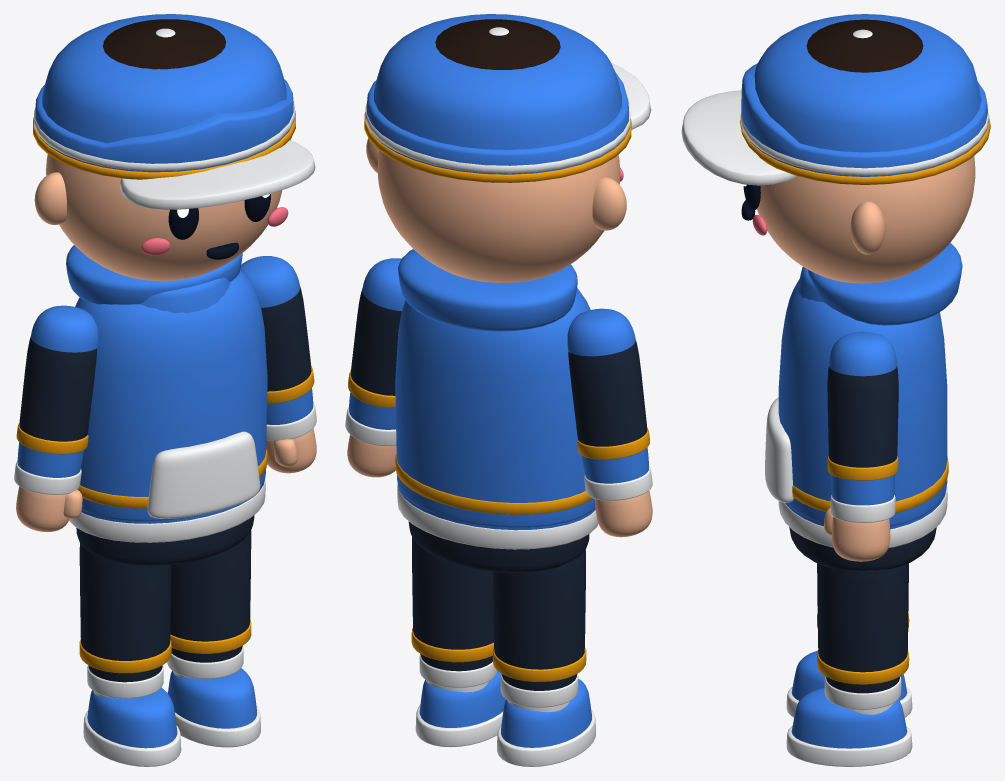
The model's file is character_modular_v1_round_backup.glb.
3 views of the same model, side by side, from view 1: azimuth 30°, elevation 25°; view 2: azimuth 150°, elevation 25°; view 3: azimuth 270°, elevation 25° (orthographic).
Visible parts, largest first — view 1: Top03_Hoodie_Torso, Hat03_Cap_Crown, Head_Base, Bot02_Komprang_Leg_R, Hat02_Udeng_Band, Top03_Hoodie_Pocket, Hat03_Cap_Visor, Bot02_Komprang_Leg_L, Top02_Pangsi_Sleeve_R, Hat01_StylizedHair, Shoes01_Sneaker_Upper_R, Shoes01_Sneaker_Upper_L (+30 smaller); view 2: Top03_Hoodie_Torso, Hat03_Cap_Crown, Head_Base, Bot02_Komprang_Leg_R, Top03_Hoodie_NeckRoll, Bot02_Komprang_Leg_L, Top02_Pangsi_Sleeve_R, Hat02_Udeng_Band, Hat01_StylizedHair, Top03_Hoodie_RibHem, Bot02_Komprang_Pelvis, Top02_Pangsi_Sleeve_L (+26 smaller); view 3: Hat03_Cap_Crown, Top03_Hoodie_Torso, Head_Base, Bot02_Komprang_Leg_L, Top02_Pangsi_Sleeve_L, Top03_Hoodie_NeckRoll, Hat02_Udeng_Band, Hat03_Cap_Visor, Hat01_StylizedHair, Shoes01_Sneaker_Upper_L, Top01_Jersey_Sleeve_L, Shoes01_Sneaker_Sole_L (+16 smaller).
Boxes of the visible parts, box(x1,y1,x2,y2) form: Top03_Hoodie_Torso: box(75, 270, 267, 523); Hat03_Cap_Crown: box(42, 14, 286, 143); Head_Base: box(46, 154, 282, 281); Bot02_Komprang_Leg_R: box(79, 543, 171, 660); Hat02_Udeng_Band: box(35, 79, 293, 172); Top03_Hoodie_Pocket: box(147, 431, 260, 518); Hat03_Cap_Visor: box(120, 140, 315, 209); Bot02_Komprang_Leg_L: box(170, 530, 251, 641); Top02_Pangsi_Sleeve_R: box(19, 336, 96, 441); Hat01_StylizedHair: box(103, 19, 226, 69); Shoes01_Sneaker_Upper_R: box(87, 687, 177, 748); Shoes01_Sneaker_Upper_L: box(168, 668, 256, 728); Top03_Hoodie_Torso: box(395, 288, 595, 530); Hat03_Cap_Crown: box(374, 14, 621, 149); Head_Base: box(377, 151, 620, 282); Bot02_Komprang_Leg_R: box(493, 550, 585, 669); Top03_Hoodie_NeckRoll: box(398, 249, 577, 331); Bot02_Komprang_Leg_L: box(412, 536, 493, 649); Top02_Pangsi_Sleeve_R: box(568, 340, 647, 446); Hat02_Udeng_Band: box(367, 72, 628, 174); Hat01_StylizedHair: box(435, 19, 560, 69); Top03_Hoodie_RibHem: box(397, 484, 598, 549); Bot02_Komprang_Pelvis: box(408, 521, 589, 572); Top02_Pangsi_Sleeve_L: box(350, 288, 401, 395); Hat03_Cap_Crown: box(754, 14, 981, 152); Top03_Hoodie_Torso: box(778, 279, 947, 529); Head_Base: box(757, 156, 975, 283); Bot02_Komprang_Leg_L: box(817, 563, 908, 672); Top02_Pangsi_Sleeve_L: box(827, 365, 898, 467); Top03_Hoodie_NeckRoll: box(808, 243, 962, 325); Hat02_Udeng_Band: box(741, 63, 987, 176); Hat03_Cap_Visor: box(681, 90, 795, 185); Hat01_StylizedHair: box(806, 19, 923, 72); Shoes01_Sneaker_Upper_L: box(791, 688, 907, 748); Top01_Jersey_Sleeve_L: box(829, 331, 896, 376); Shoes01_Sneaker_Sole_L: box(786, 726, 912, 766).
Bounding box in the file's own units: 0.6999 × 1.59 × 0.6363.
